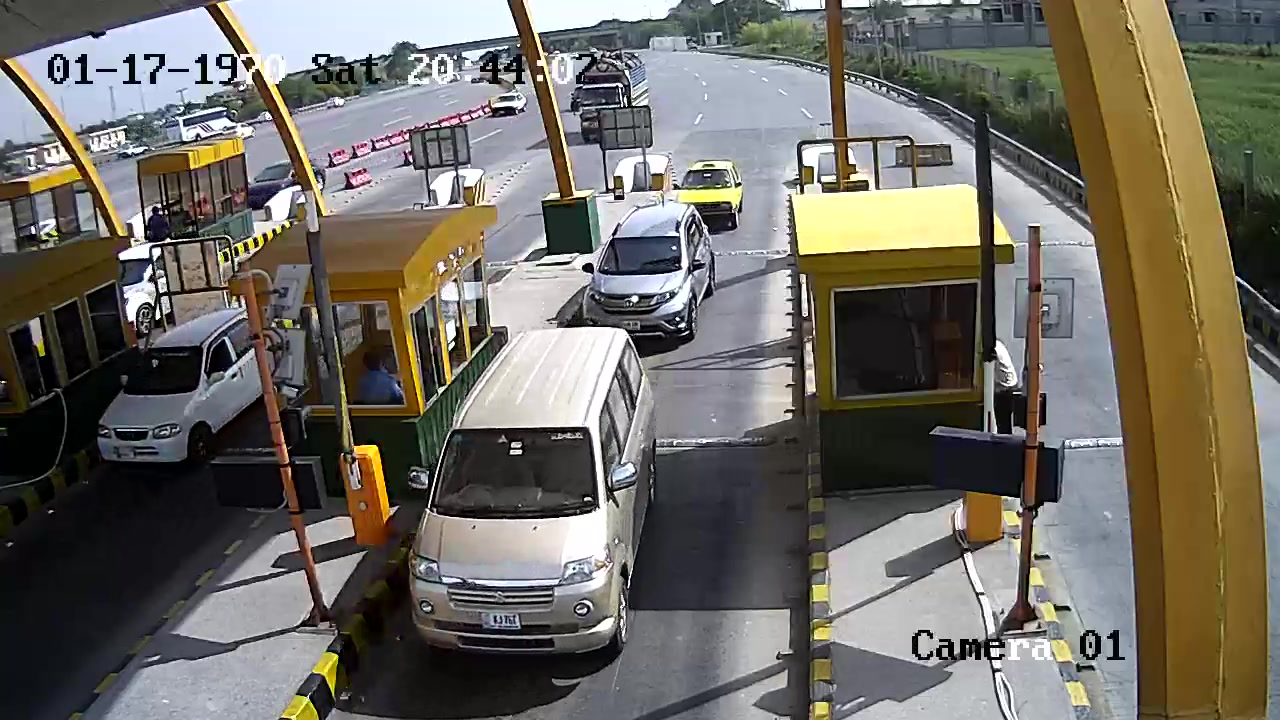F1: (409, 323, 664, 667), (589, 202, 716, 329)
